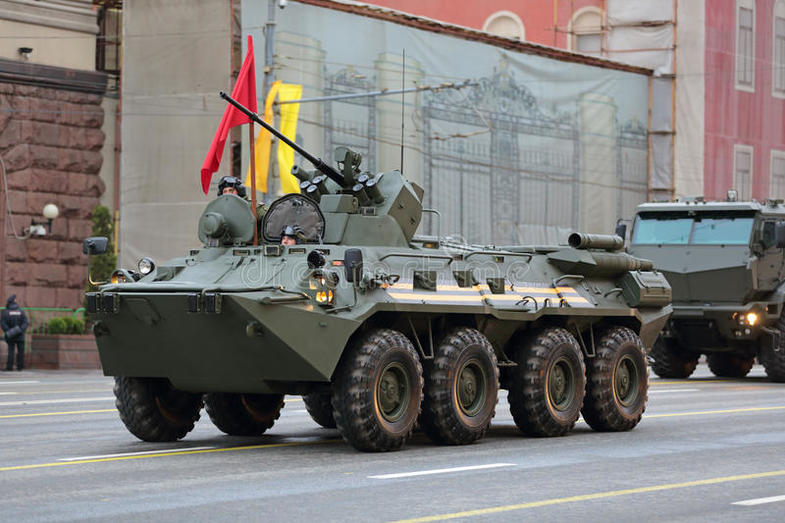btr: (83, 201, 666, 434)
